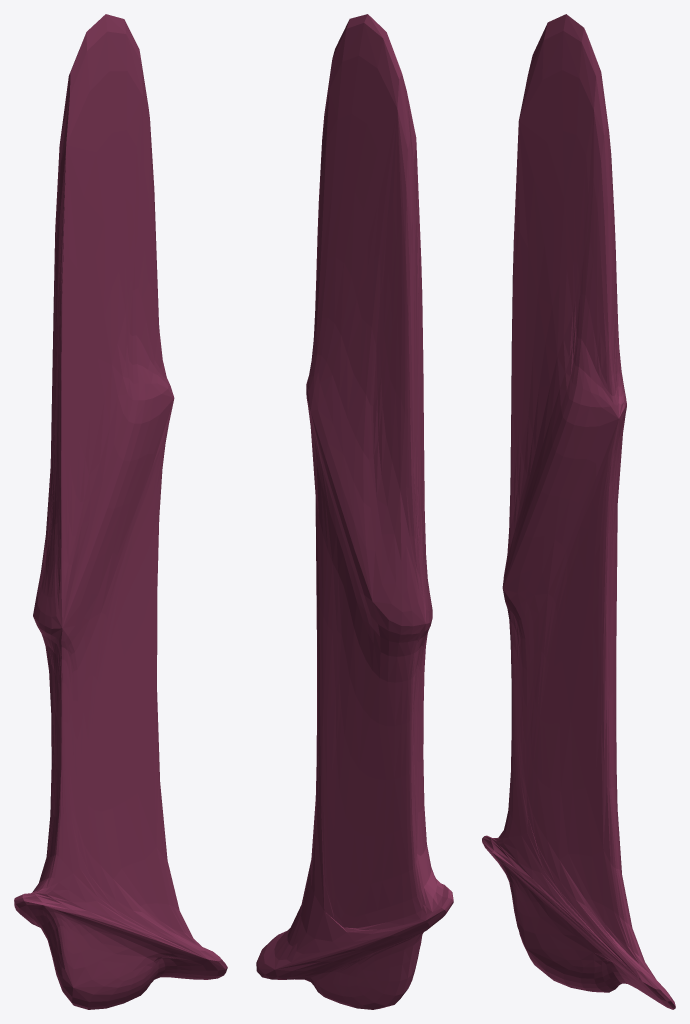
The picture shows the model from 3 angles, left to right: view 1: azimuth 30°, elevation 25°; view 2: azimuth 150°, elevation 25°; view 3: azimuth 330°, elevation 25°; orthographic projection. The views are drawn at different scales.
Parts seen in each view (by area): view 1: 322_Cube.1318; view 2: 322_Cube.1318; view 3: 322_Cube.1318.
Part boxes in pixels (x1,y1,x2,y2): 322_Cube.1318: [14, 14, 227, 1009]; 322_Cube.1318: [256, 14, 453, 1009]; 322_Cube.1318: [482, 14, 675, 1009].
Size of the model in its own units: 2.51 by 11.66 by 0.6333.
